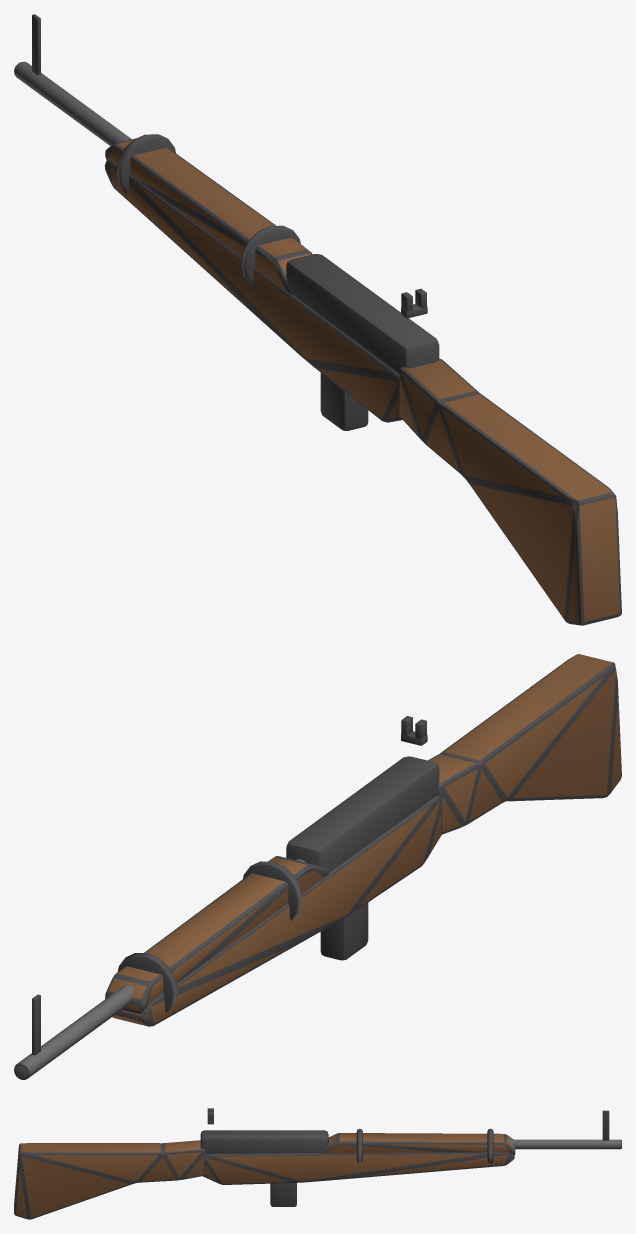
The picture shows the model from 3 angles, top to bottom: view 1: azimuth 30°, elevation 25°; view 2: azimuth 150°, elevation 25°; view 3: azimuth 270°, elevation 25°; orthographic projection. The views are drawn at different scales.
Parts seen in each view (by area): view 1: g43_LOD0; view 2: g43_LOD0; view 3: g43_LOD0.
Boxes of the visible parts, x1,y1,x2,y2 form: g43_LOD0: [14, 14, 621, 625]; g43_LOD0: [14, 654, 621, 1079]; g43_LOD0: [14, 1108, 621, 1219].
Size of the model in its own units: 0.0682 by 0.2157 by 1.14.
